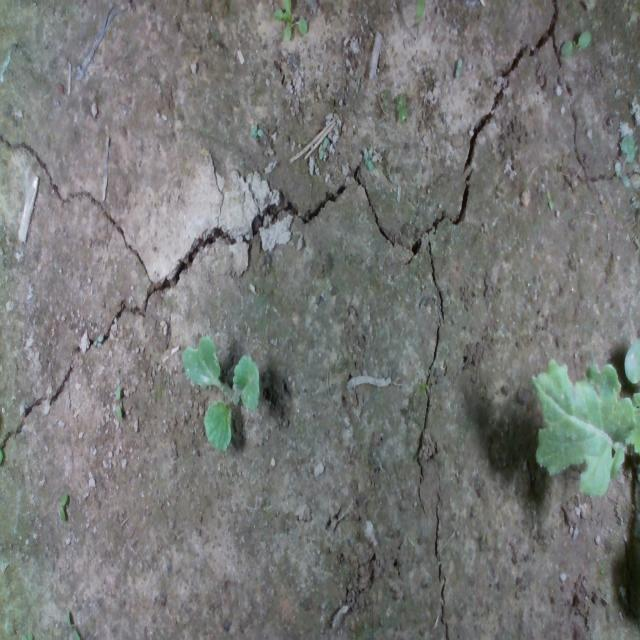weed: (558, 25, 586, 58), (248, 118, 270, 143), (111, 383, 123, 418)
